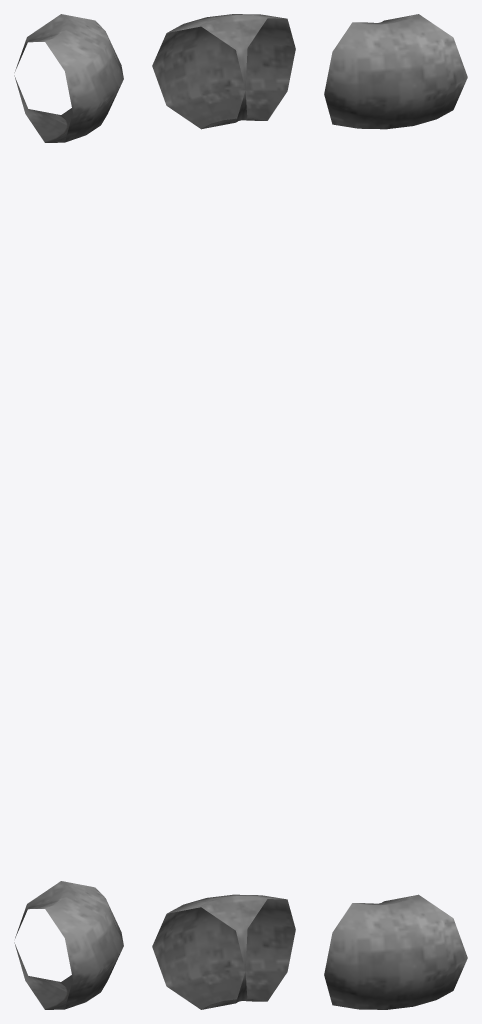
The model's file is catwalk_railing_turn_cap.dae.
3 renders of one model, left to right at view 1: azimuth 30°, elevation 25°; view 2: azimuth 150°, elevation 25°; view 3: azimuth 330°, elevation 25°, orthographic.
Visible parts, largest first — view 1: railing_convext_cap; view 2: railing_convext_cap; view 3: railing_convext_cap.
Boxes of the visible parts, x1,y1,x2,y2 form: railing_convext_cap: [14, 14, 123, 1009]; railing_convext_cap: [152, 14, 295, 1009]; railing_convext_cap: [324, 14, 467, 1009].
Bounding box in the file's own units: 0.0719 × 0.7099 × 0.0721.
